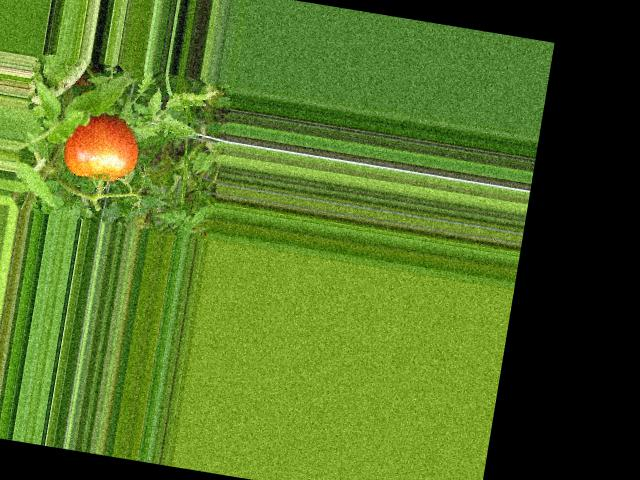tomato: (61, 109, 143, 185)
